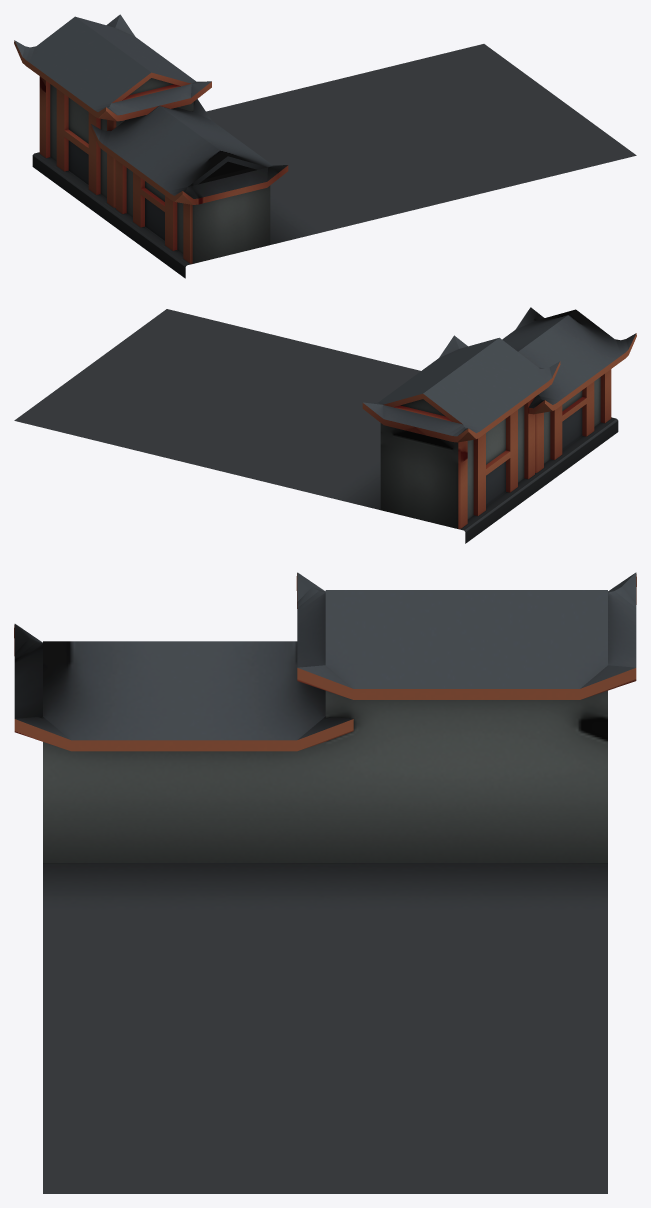
File: asia_side_houses.fbx
3 renders of one model, top to bottom at view 1: azimuth 30°, elevation 25°; view 2: azimuth 150°, elevation 25°; view 3: azimuth 270°, elevation 25°, orthographic. The views are drawn at different scales.
Parts seen in each view (by area): view 1: asia_side_houses; view 2: asia_side_houses; view 3: asia_side_houses.
Part boxes in pixels (x1,y1,x2,y2): asia_side_houses: [14, 14, 636, 278]; asia_side_houses: [14, 307, 636, 543]; asia_side_houses: [14, 572, 636, 1193].
Size of the model in its own units: 17461 by 5050 by 11023.
